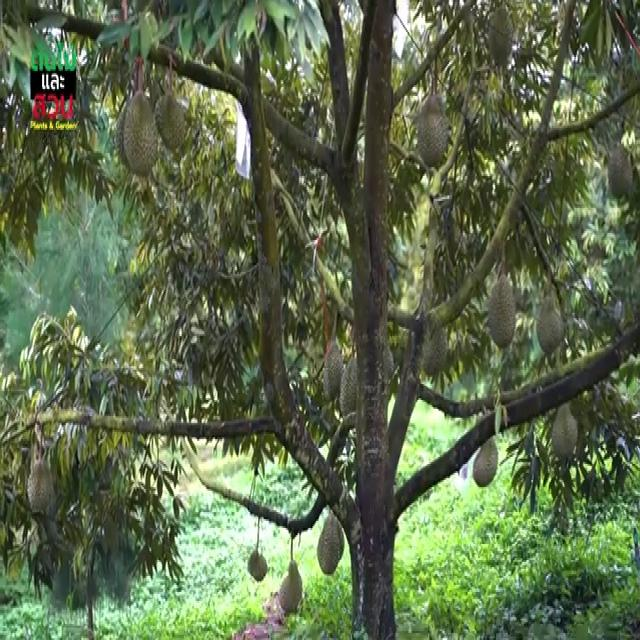durian: (120, 87, 163, 179), (414, 89, 452, 168), (417, 302, 449, 386), (488, 273, 520, 355), (151, 89, 188, 155), (548, 400, 581, 463), (487, 6, 517, 72), (336, 354, 363, 425), (607, 139, 634, 205), (534, 302, 566, 357), (25, 459, 56, 515), (277, 559, 305, 620), (472, 435, 501, 491), (321, 340, 345, 406), (316, 522, 342, 575), (246, 549, 271, 586)
